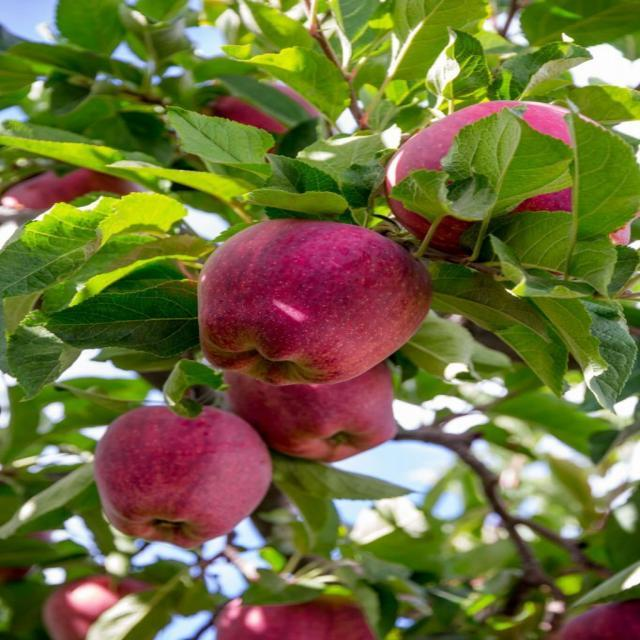Red Apple: (205, 216, 412, 372), (397, 96, 594, 249), (87, 410, 274, 537), (233, 348, 399, 458), (231, 596, 372, 640), (46, 575, 134, 636), (219, 86, 313, 135), (23, 160, 101, 207), (568, 601, 640, 640)
